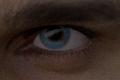eye: (39, 26, 70, 50)
